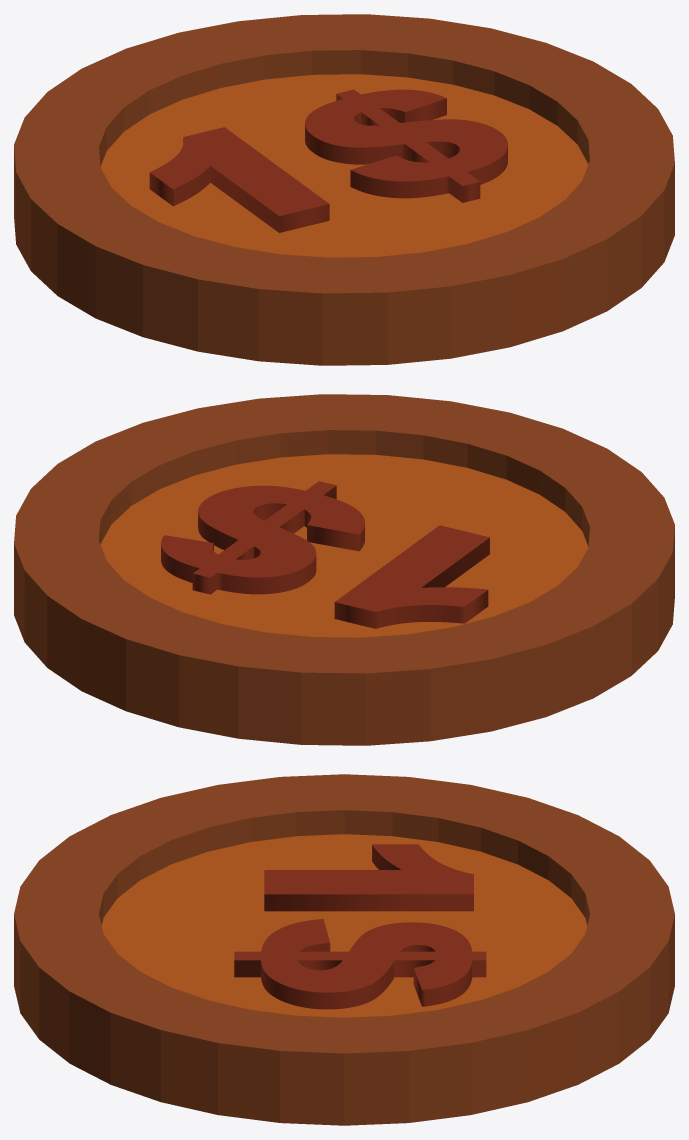
The model's file is 1$ kup'ura.fbx.
3 views of the same model, one above another, from view 1: azimuth 30°, elevation 25°; view 2: azimuth 150°, elevation 25°; view 3: azimuth 270°, elevation 25° (orthographic).
Parts seen in each view (by area): view 1: Цилиндр, Текст; view 2: Цилиндр, Текст; view 3: Цилиндр, Текст.
Boxes of the visible parts, box(x1,y1,x2,y2) form: Цилиндр: box(14, 14, 674, 365); Текст: box(149, 89, 507, 232); Цилиндр: box(14, 394, 674, 745); Текст: box(161, 481, 489, 628); Цилиндр: box(14, 774, 674, 1125); Текст: box(234, 844, 486, 1009).
Bounding box in the file's own units: 200 × 24.09 × 200.
